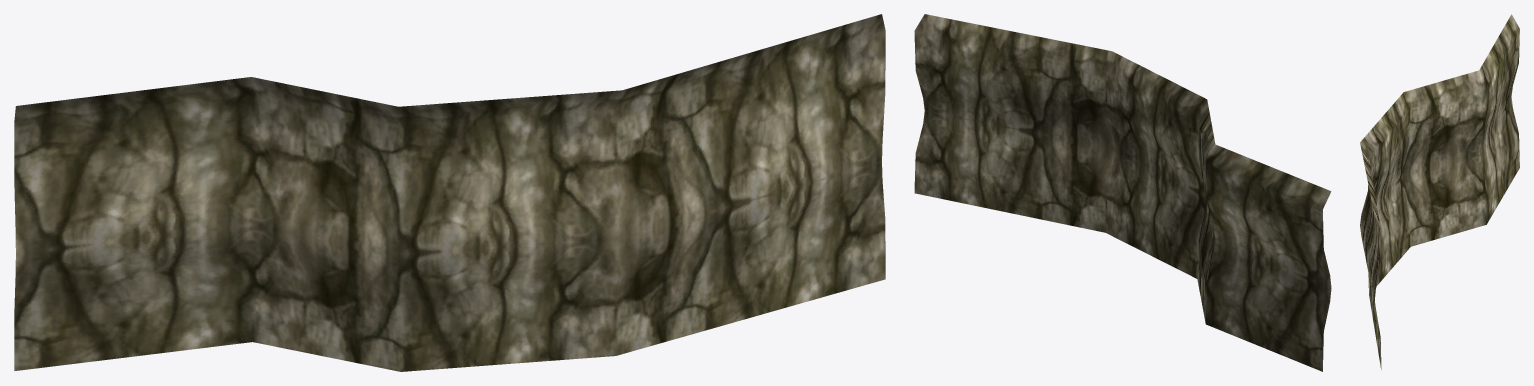
The model's file is CB_NEWPLAYSURFACE_CB_PLAYSURFACE44.fbx.
3 renders of one model, left to right at view 1: azimuth 30°, elevation 25°; view 2: azimuth 150°, elevation 25°; view 3: azimuth 270°, elevation 25°, orthographic. The views are drawn at different scales.
Parts seen in each view (by area): view 1: CB_NEWPLAYSURFACE_CB_PLAYSURFACE44; view 2: CB_NEWPLAYSURFACE_CB_PLAYSURFACE44; view 3: CB_NEWPLAYSURFACE_CB_PLAYSURFACE44.
Boxes of the visible parts, box(x1,y1,x2,y2) form: CB_NEWPLAYSURFACE_CB_PLAYSURFACE44: box(14, 14, 885, 371); CB_NEWPLAYSURFACE_CB_PLAYSURFACE44: box(914, 14, 1331, 371); CB_NEWPLAYSURFACE_CB_PLAYSURFACE44: box(1360, 14, 1519, 369).
Size of the model in its own units: 213178 by 73541 by 70049.
1 material, 1 textured.
